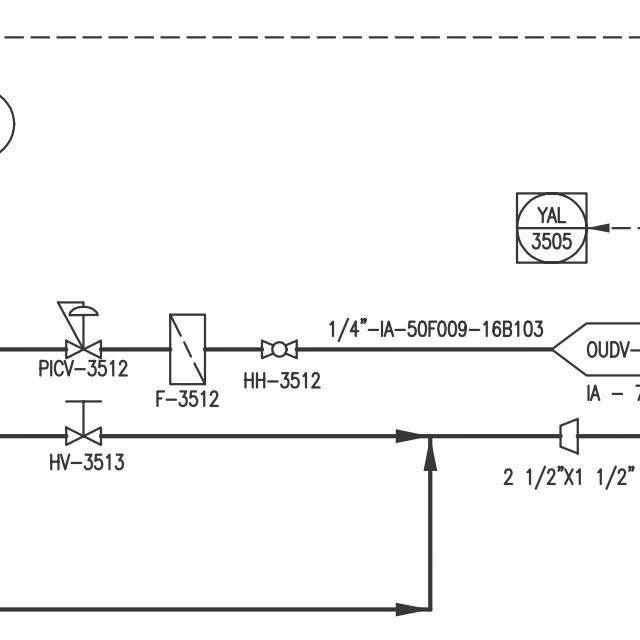BV2: (256, 336, 301, 363)
F2: (163, 306, 212, 392)
HVWT: (59, 391, 113, 450)
PCV: (52, 293, 108, 361)
SP: (555, 415, 583, 456)
